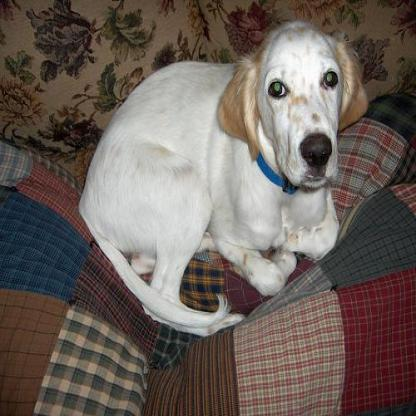English_setter: (77, 19, 366, 334)
